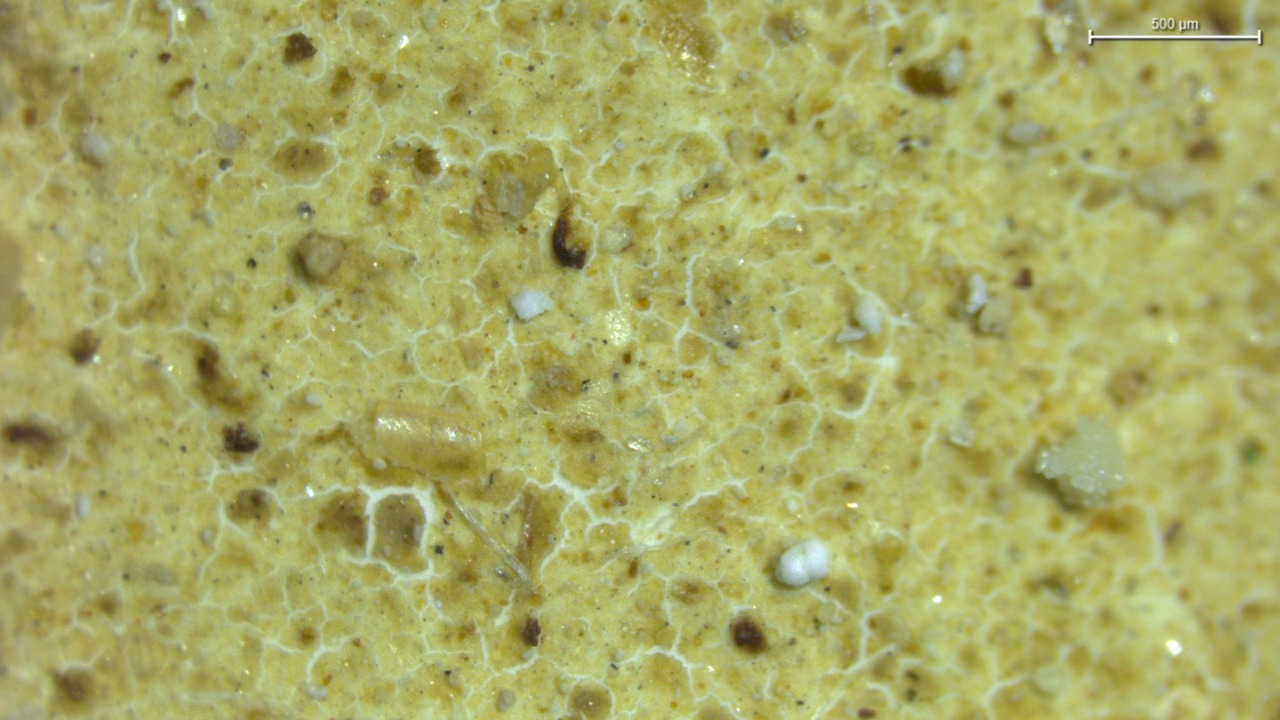microplastic_fragment: (1035, 419, 1126, 507), (775, 539, 830, 587), (297, 232, 345, 282), (511, 287, 554, 321), (855, 296, 883, 335), (836, 325, 867, 343)
